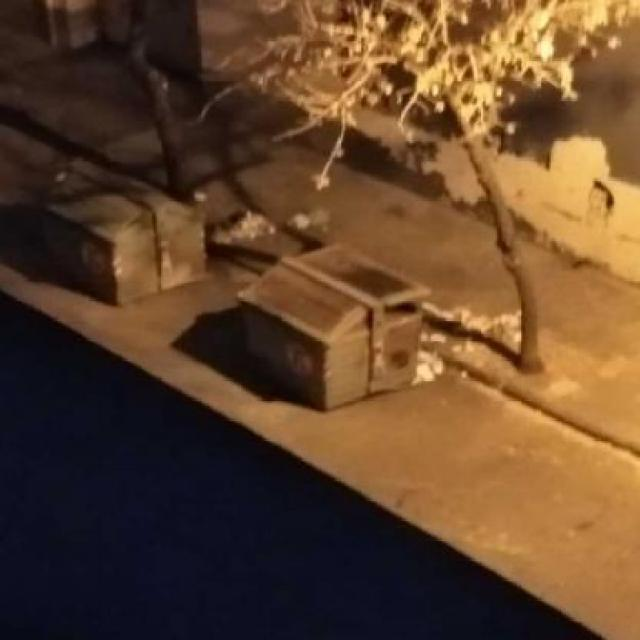garbage: (180, 186, 326, 252), (420, 309, 532, 356), (411, 342, 452, 388)
